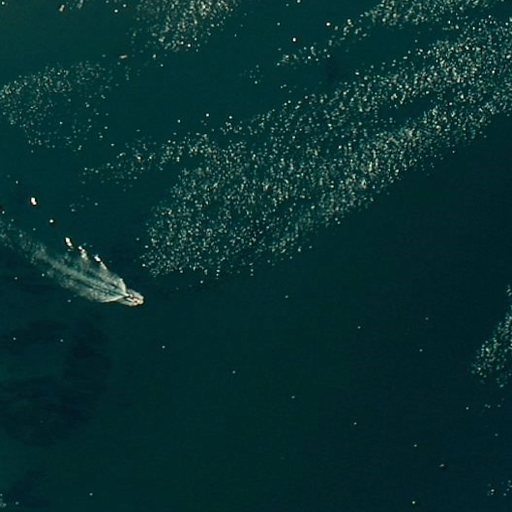ship: (123, 289, 145, 309)
